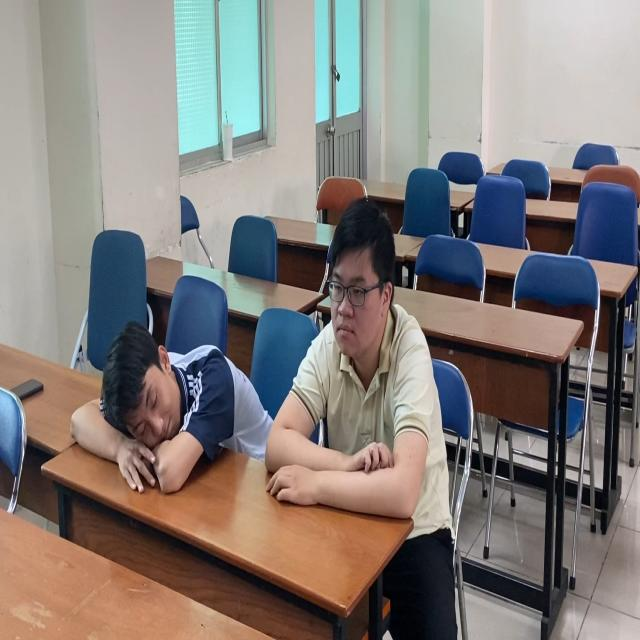sleep: (66, 322, 269, 508)
